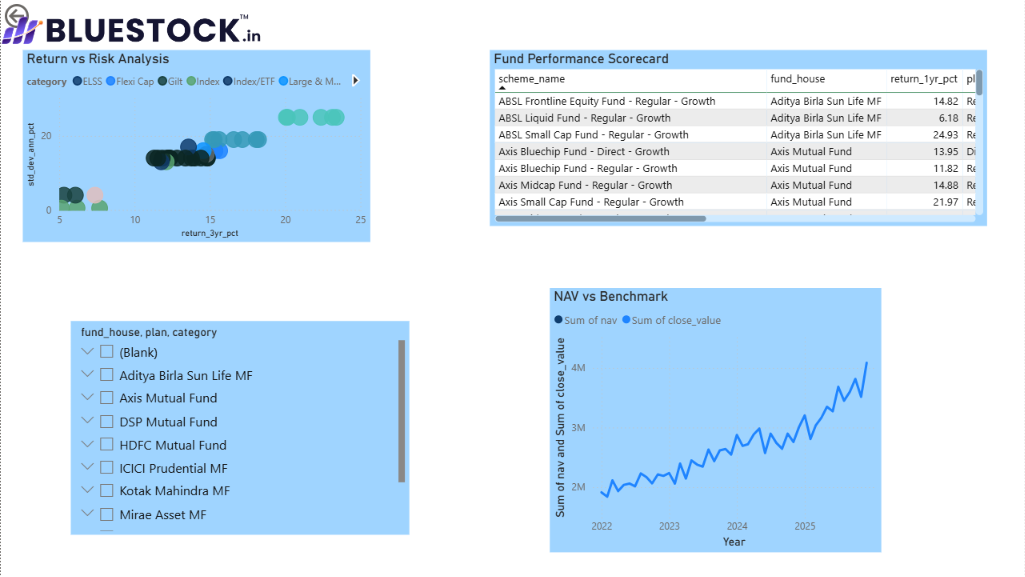

This screenshot's page, from the dashboard's own definition file:
{"tool":"powerbi","page":{"name":"Fund Performance","canvas":[1280,720],"ordinal":1},"visuals":[{"type":"scatterChart","title":"Return vs Risk Analysis","fields":{"X":["07_scheme_performance_cleaned.return_3yr_pct"],"Y":["07_scheme_performance_cleaned.std_dev_ann_pct"],"Size":["CountNonNull(07_scheme_performance_cleaned.aum_crore)"],"Series":["07_scheme_performance_cleaned.category"]},"box":[27.1,62.9,434.3,240],"z":0},{"type":"tableEx","title":"Fund Performance Scorecard","fields":{"Values":["07_scheme_performance_cleaned.scheme_name","07_scheme_performance_cleaned.fund_house","07_scheme_performance_cleaned.return_1yr_pct","07_scheme_performance_cleaned.plan","07_scheme_performance_cleaned.aum_crore","07_scheme_performance_cleaned.return_5yr_pct","07_scheme_performance_cleaned.expense_ratio_pct","07_scheme_performance_cleaned.return_3yr_pct","07_scheme_performance_cleaned.morningstar_rating","07_scheme_performance_cleaned.std_dev_ann_pct","07_scheme_performance_cleaned.category"]},"box":[611.4,62.9,621.4,220],"z":1000},{"type":"slicer","fields":{"Values":["07_scheme_performance_cleaned.fund_house","07_scheme_performance_cleaned.plan","07_scheme_performance_cleaned.category"]},"box":[87.1,401.4,422.9,267.1],"z":2000},{"type":"lineChart","title":"NAV vs Benchmark","fields":{"Category":["DateTable.Date.Variation.Date Hierarchy.Year","DateTable.Date.Variation.Date Hierarchy.Quarter","DateTable.Date.Variation.Date Hierarchy.Month","DateTable.Date.Variation.Date Hierarchy.Day"],"Y":["Sum(02_nav_history_cleaned.nav)","Sum(10_benchmark_indices_cleaned.close_value)"]},"box":[685.7,360,414.3,330],"z":3000},{"type":"actionButton","box":[0,0,100,40],"z":3001},{"type":"image","box":[0,0,327.1,72.9],"z":3002}]}

Visuals, with their boxes in screenshot pixels (x1, y1, x2, y2), scaled from the page's 1280x720 canvas onto the 1025x577 screenshot:
"Return vs Risk Analysis" scatterChart: (x1=22, y1=50, x2=369, y2=243)
"Fund Performance Scorecard" tableEx: (x1=490, y1=50, x2=987, y2=227)
slicer - 07_scheme_performance_cleaned.fund_house x 07_scheme_performance_cleaned.plan: (x1=70, y1=322, x2=408, y2=536)
"NAV vs Benchmark" lineChart: (x1=549, y1=288, x2=881, y2=553)
actionButton: (x1=0, y1=0, x2=80, y2=32)
image: (x1=0, y1=0, x2=262, y2=58)
